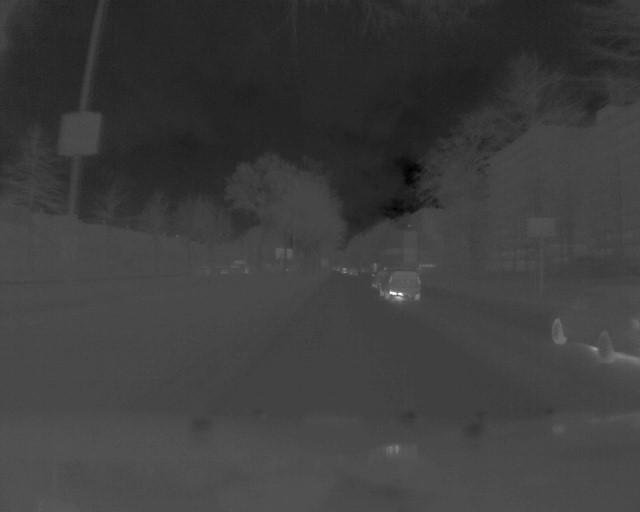car: (550, 285, 640, 367), (377, 268, 424, 302)
